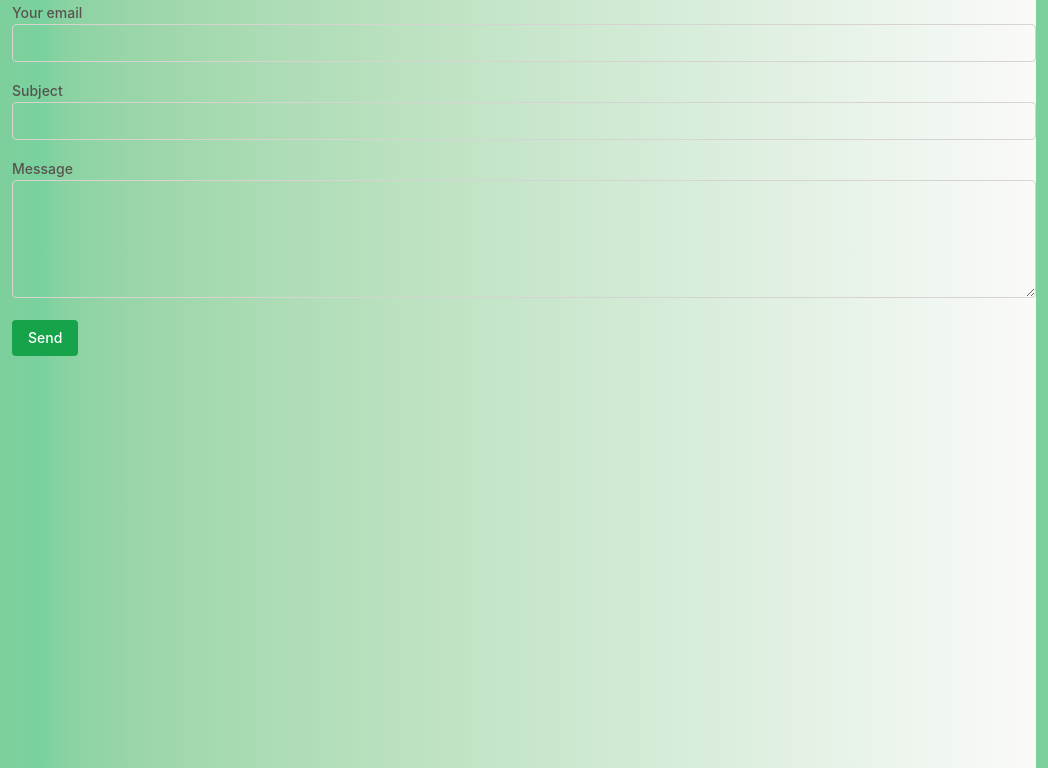
Test: ContactForm › shows a rate-limit message on a 429 response
Step 1. Type "visitor@example.com" into the field labelled "Your email" → (524, 43), box [12, 24, 1036, 62]
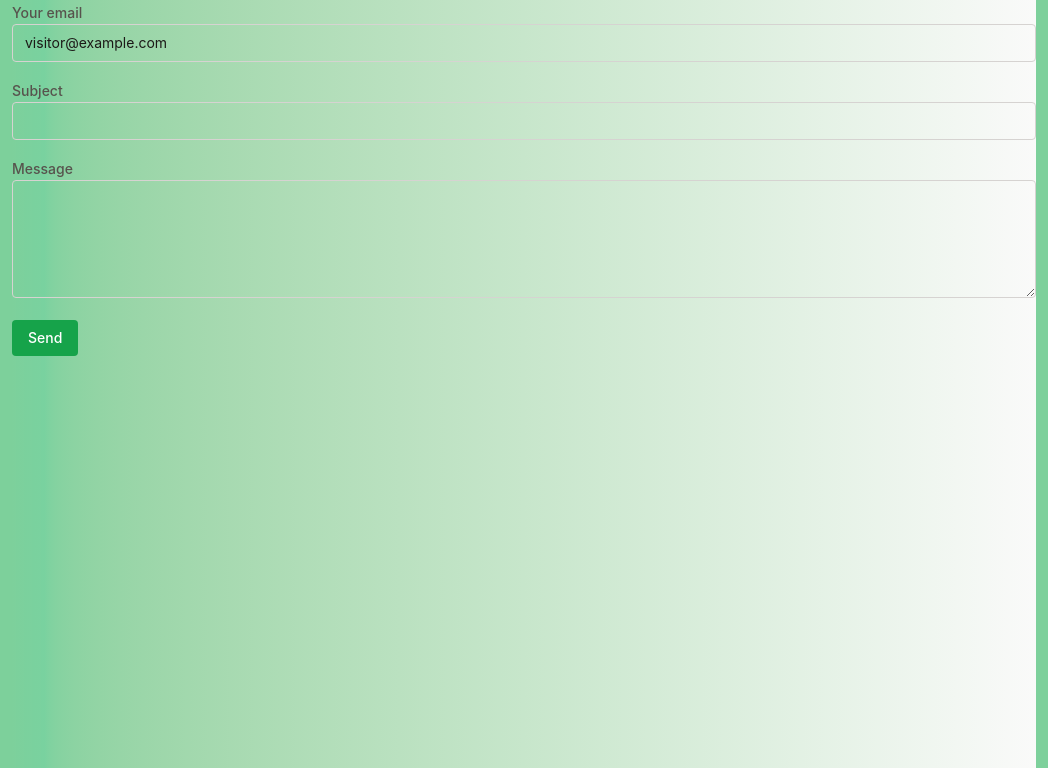
Step 2. Type "Hello" into the field labelled "Subject" → (524, 121), box [12, 102, 1036, 140]
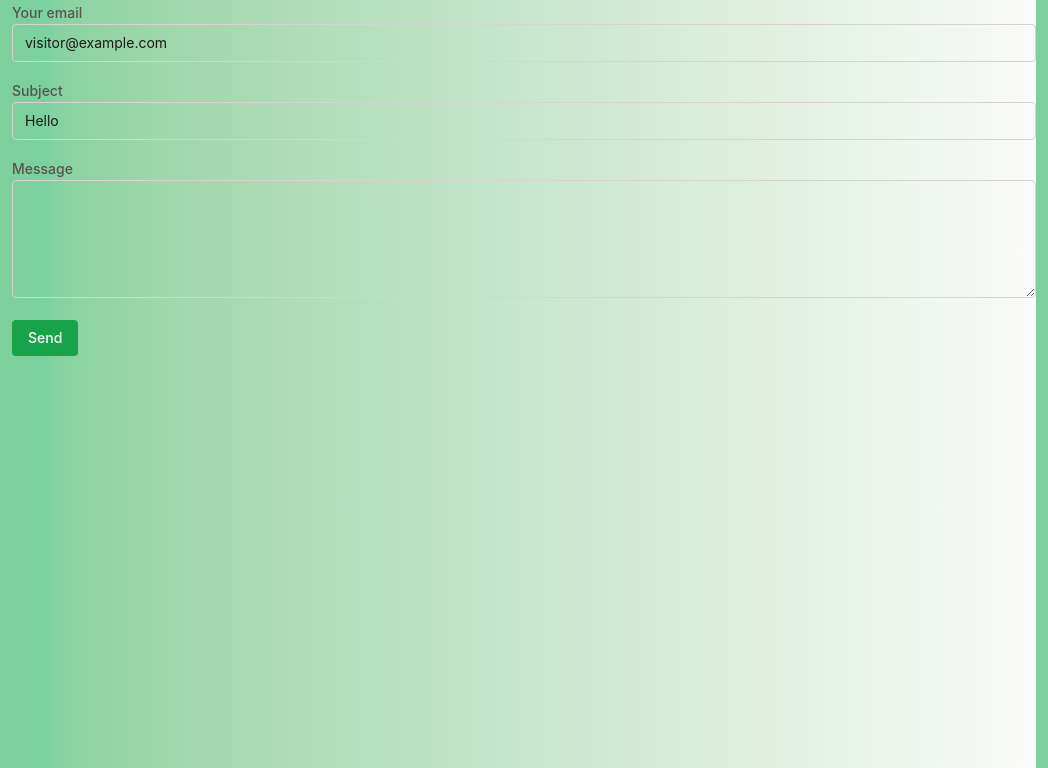
Step 3. Type "Hi there" into the text box labelled "Message" → (524, 239), box [12, 180, 1036, 298]
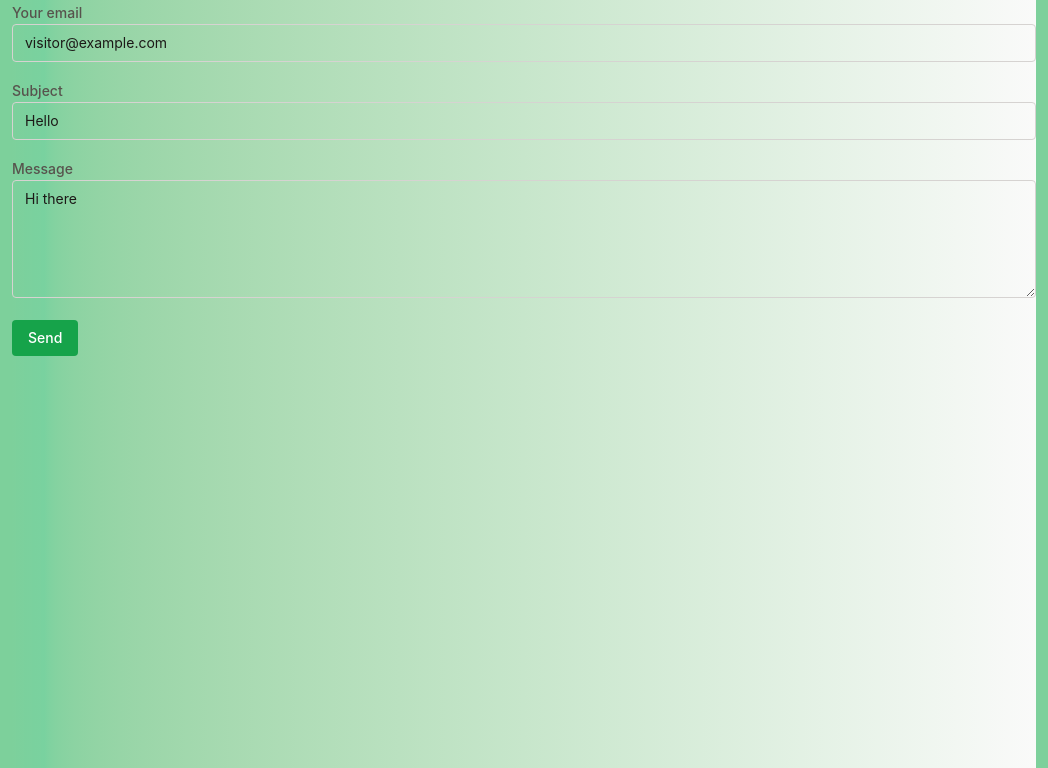
Step 4. Click the button "Send" → (45, 338), box [12, 320, 78, 356]
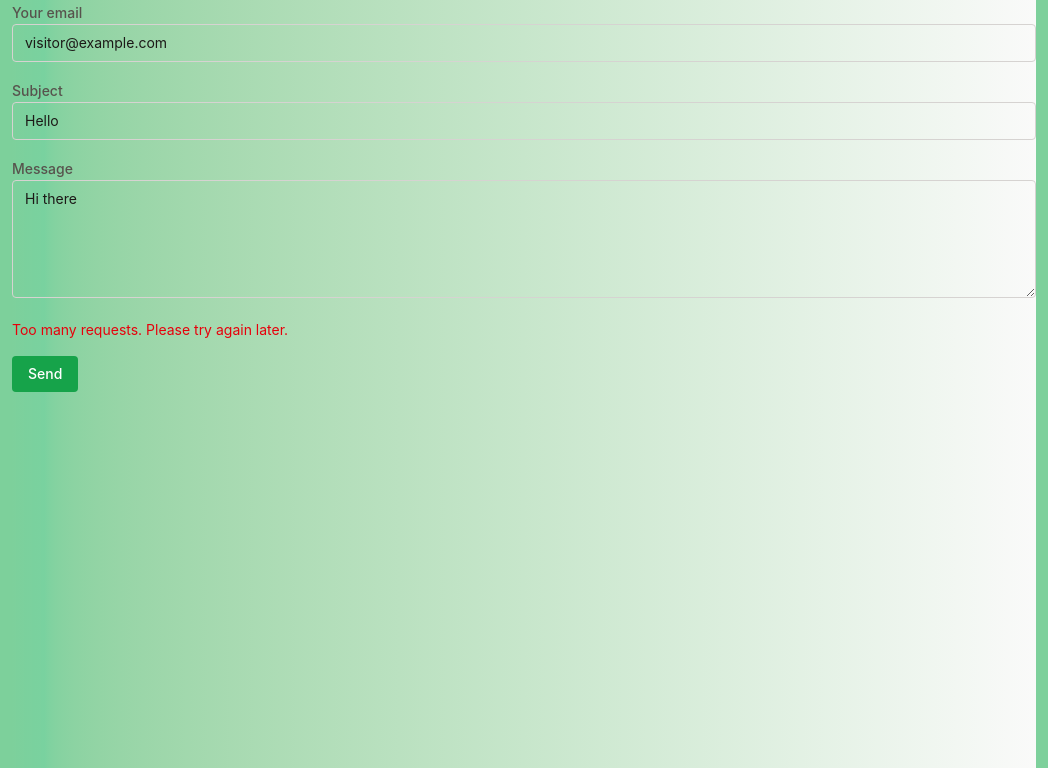
Expected: the text "Too many requests. Please try again later." is shown, [12, 321, 288, 338]
